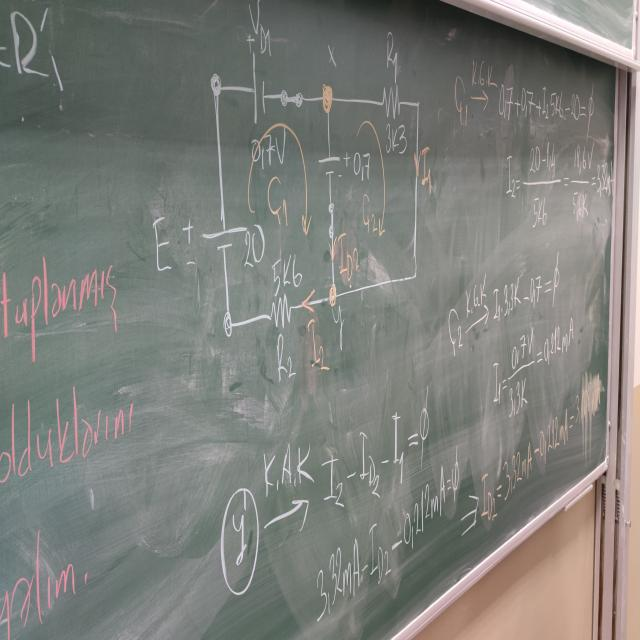image: (146, 0, 436, 442)
math: (441, 38, 615, 261), (309, 428, 465, 638), (314, 376, 448, 551), (483, 250, 582, 451), (475, 379, 589, 550)
text: (0, 235, 144, 640)
